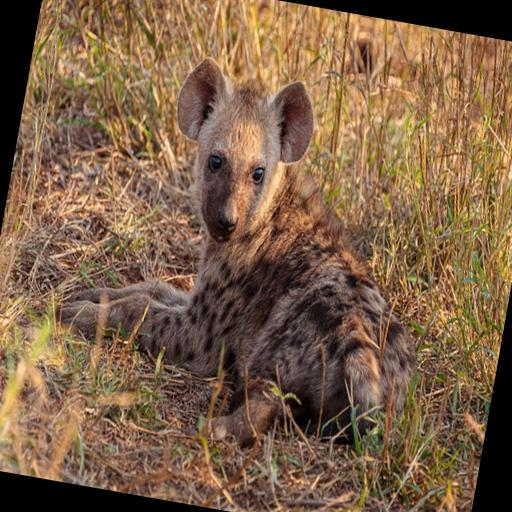hyenas: (106, 47, 480, 465)
